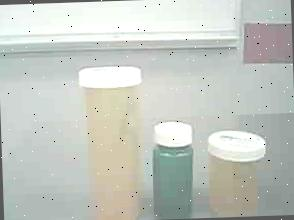Bottle A: (68, 62, 147, 220)
Bottle B: (202, 127, 270, 218)
Bottle C: (149, 118, 198, 220)
